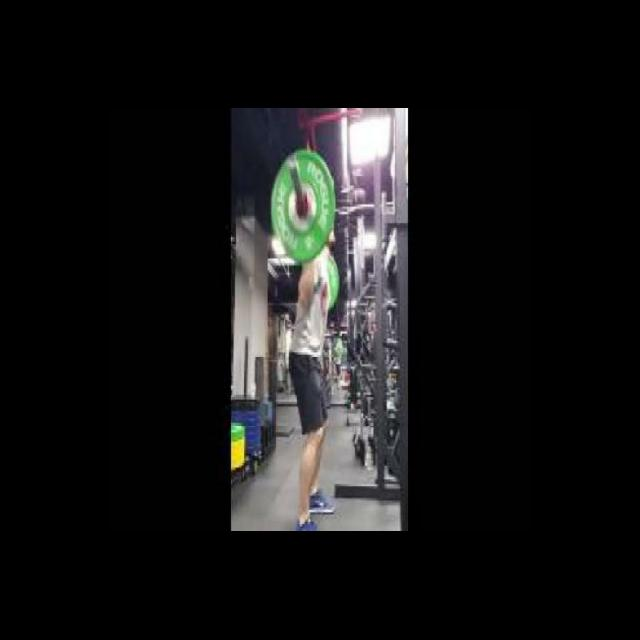barbell: (261, 143, 339, 266)
